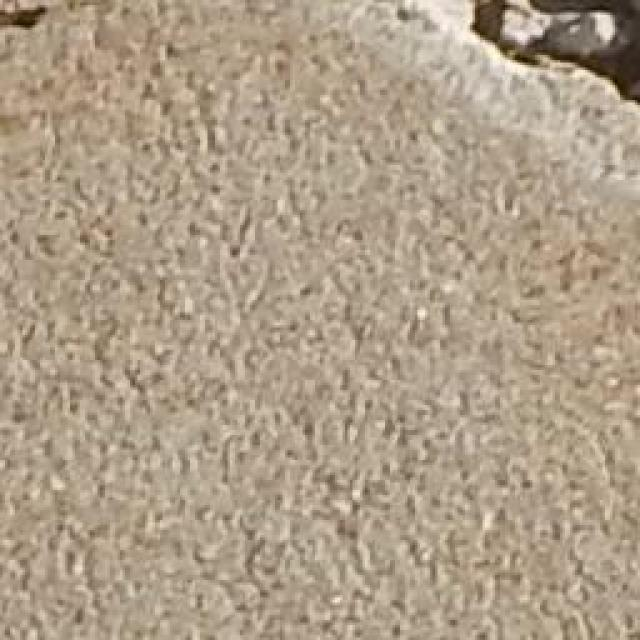concrete-crack: (464, 0, 639, 114)
